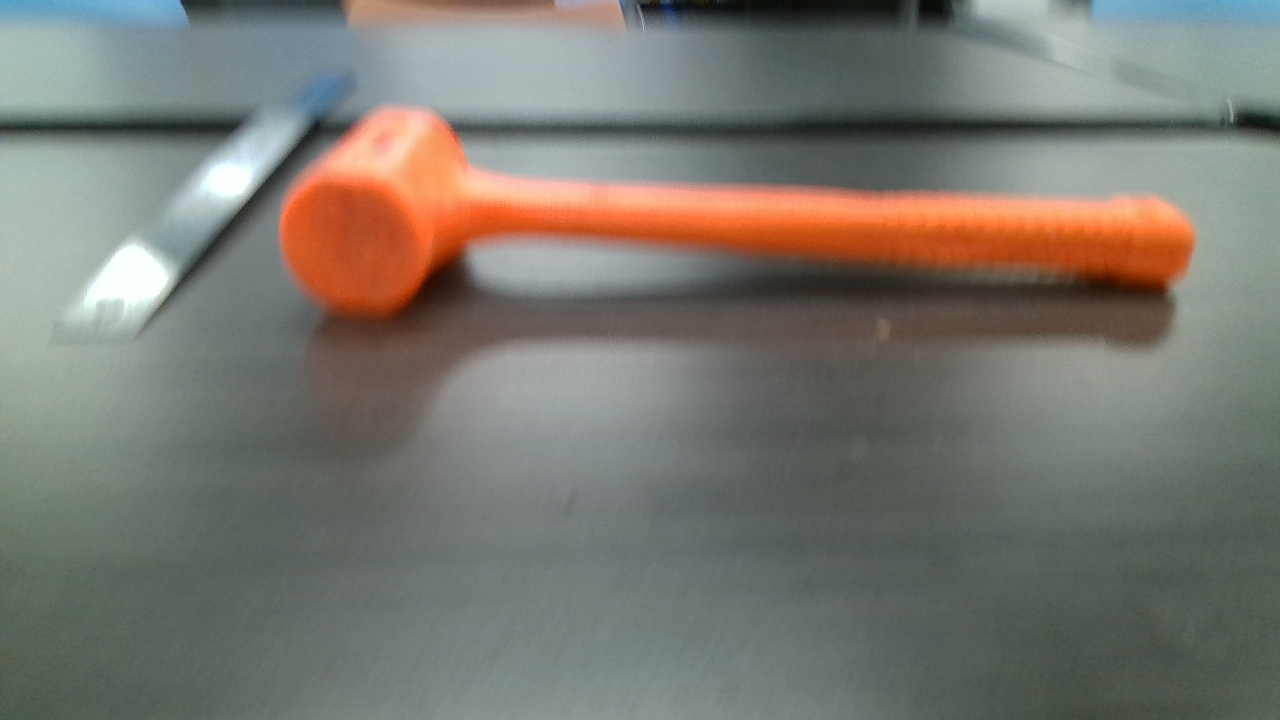Orange Hammer: (288, 102, 1193, 317)
